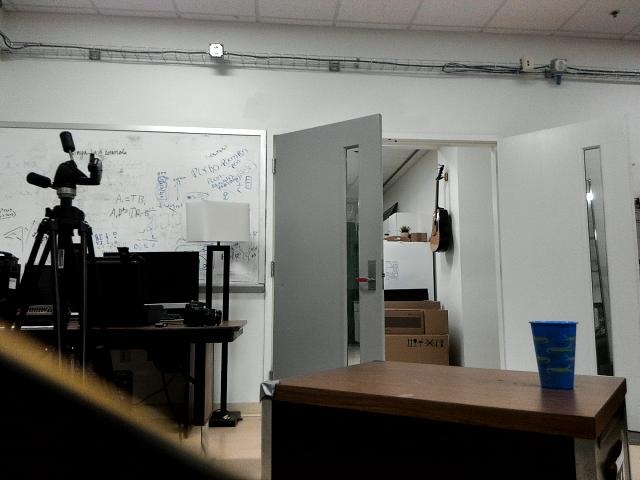water_cup: (526, 317, 582, 393)
